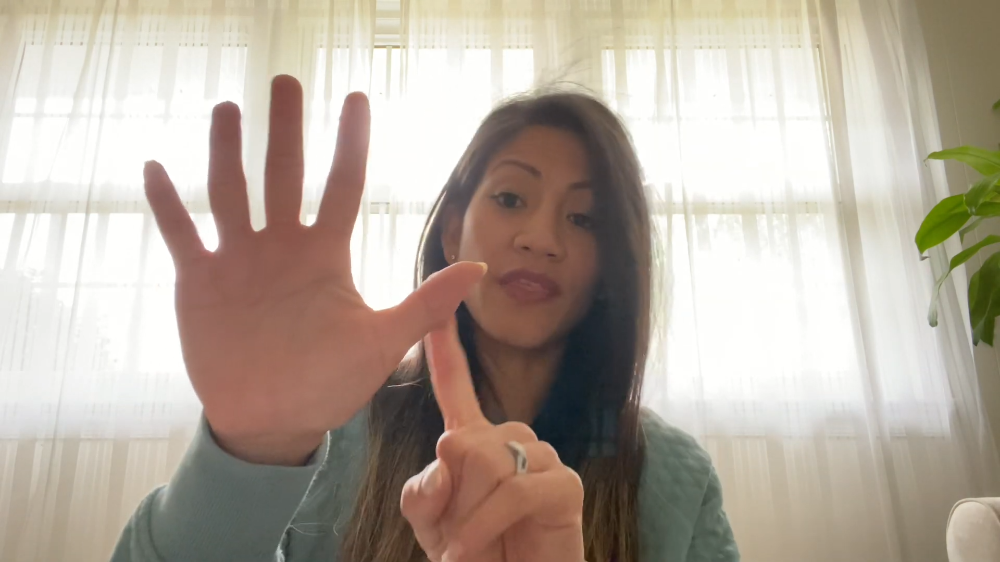hello: (143, 77, 484, 436)
